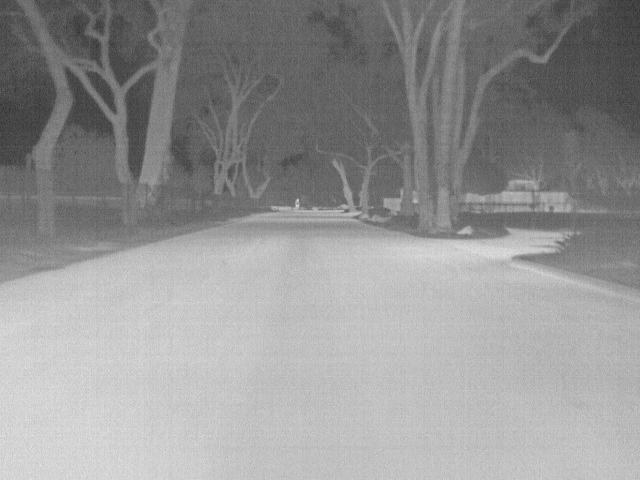person: (292, 195, 301, 210)
